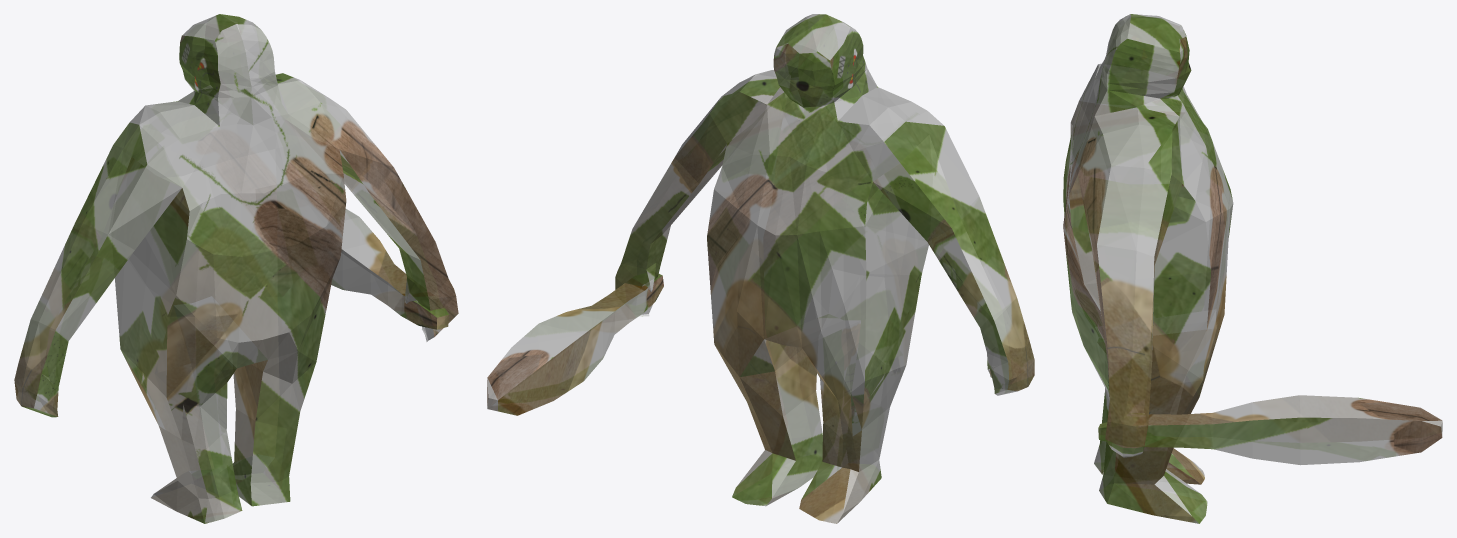
The model's file is Enemigo215.obj.
3 renders of one model, left to right at view 1: azimuth 30°, elevation 25°; view 2: azimuth 150°, elevation 25°; view 3: azimuth 270°, elevation 25°, orthographic. The views are drawn at different scales.
Visible parts, largest first — view 1: Cube; view 2: Cube; view 3: Cube.
Part boxes in pixels (box(x1,y1,x2,y2)): Cube: box(14, 14, 458, 523); Cube: box(487, 14, 1034, 523); Cube: box(1063, 14, 1442, 523).
Size of the model in its own units: 2.53 by 2.78 by 2.
